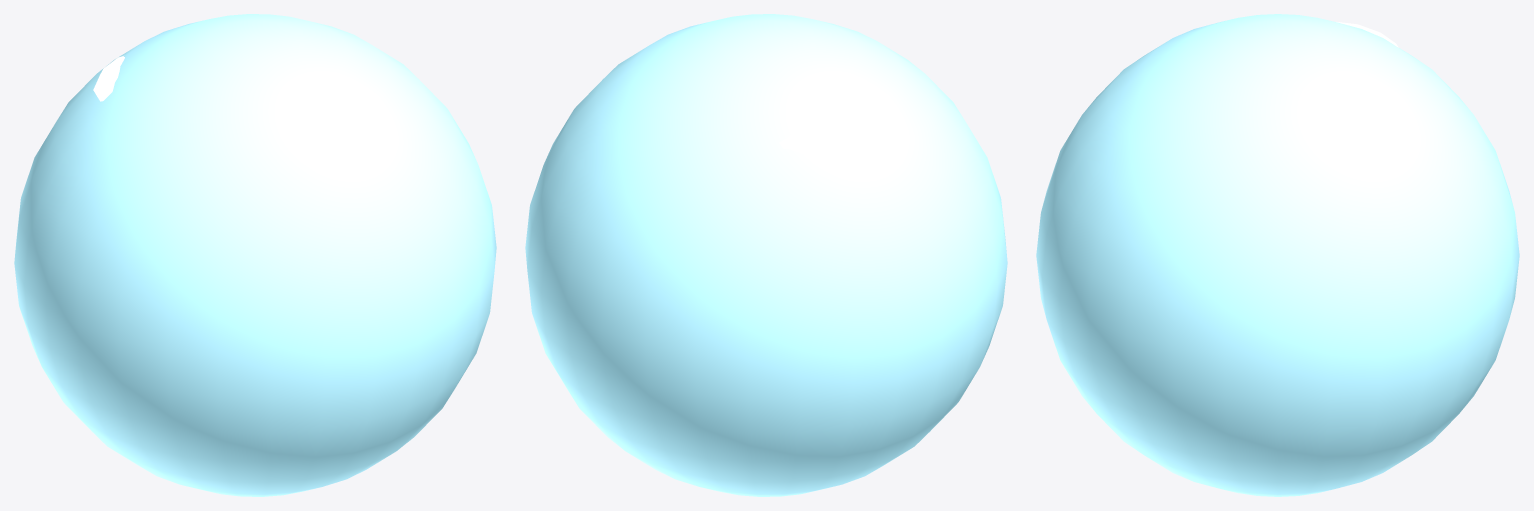
Rendered from credit.glb.
The picture shows the model from 3 angles, left to right: view 1: azimuth 30°, elevation 25°; view 2: azimuth 150°, elevation 25°; view 3: azimuth 270°, elevation 25°; orthographic projection.
Visible parts, largest first — view 1: bubble; view 2: bubble; view 3: bubble.
Part boxes in pixels (<box>): bubble: <box>14,14,496,496</box>; bubble: <box>525,14,1007,496</box>; bubble: <box>1036,14,1519,496</box>.
Bounding box in the file's own units: 0.58 × 0.58 × 0.58.
